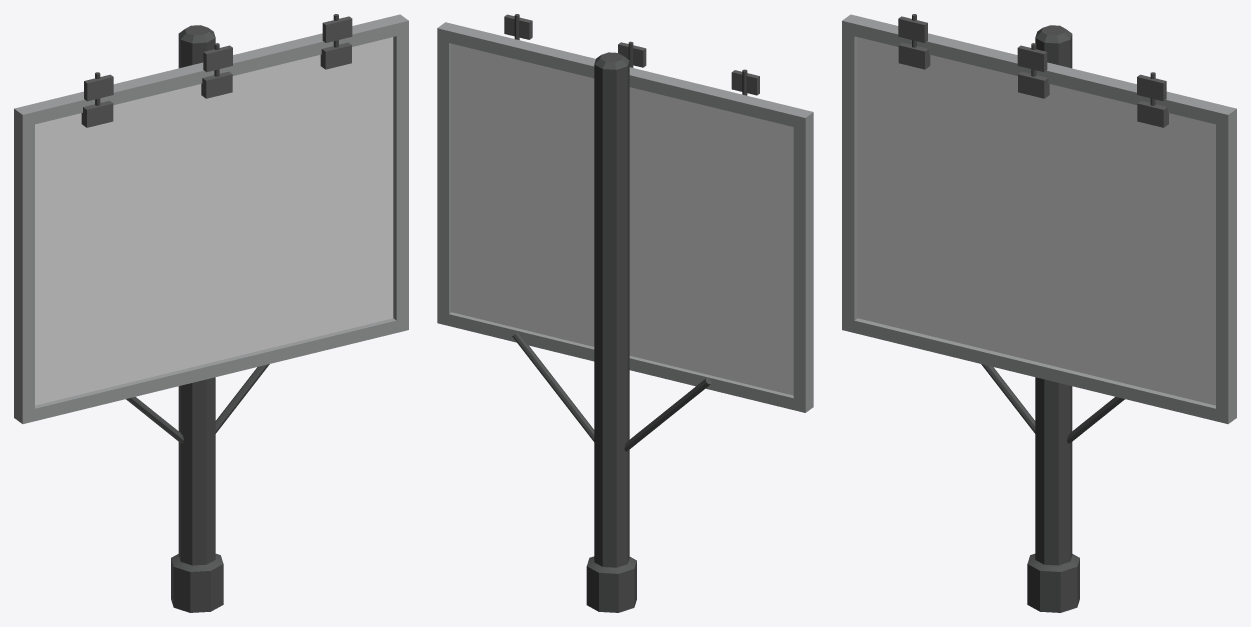
Rendered from ads.fbx.
3 views of the same model, side by side, from view 1: azimuth 30°, elevation 25°; view 2: azimuth 150°, elevation 25°; view 3: azimuth 330°, elevation 25° (orthographic). The views are drawn at different scales.
Parts seen in each view (by area): view 1: 1, 2; view 2: 1, 2; view 3: 1, 2.
Boxes of the visible parts, left/top/right/bottom form: 1: left=35, top=37, right=393, bottom=405; 2: left=14, top=14, right=408, bottom=612; 1: left=451, top=44, right=793, bottom=395; 2: left=437, top=14, right=813, bottom=612; 1: left=857, top=37, right=1215, bottom=405; 2: left=842, top=14, right=1236, bottom=612.
Size of the model in its own units: 289 by 409 by 47.08.
